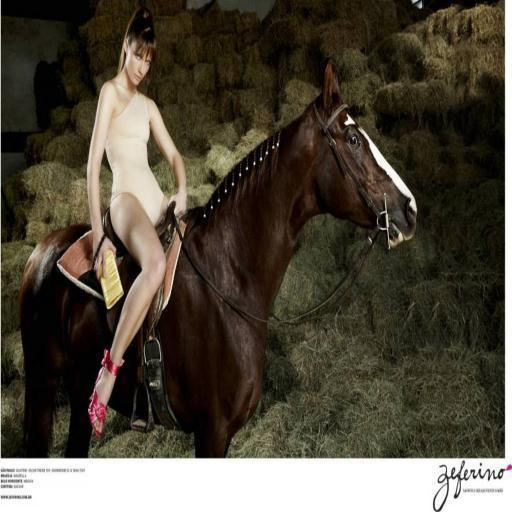horse: (16, 64, 416, 458)
